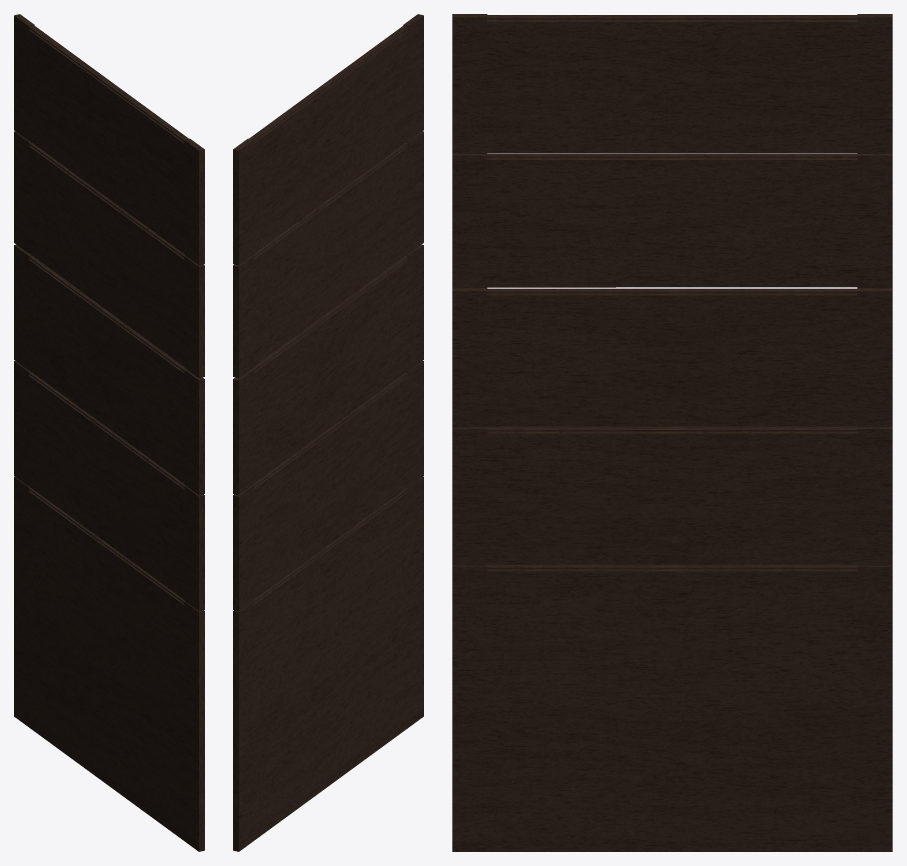
Rendered from mid_wall_panel.glb.
The picture shows the model from 3 angles, left to right: view 1: azimuth 30°, elevation 25°; view 2: azimuth 150°, elevation 25°; view 3: azimuth 270°, elevation 25°; orthographic projection. The views are drawn at different scales.
Visible parts, largest first — view 1: Middle Wall Panel; view 2: Middle Wall Panel; view 3: Middle Wall Panel.
Boxes of the visible parts, x1,y1,x2,y2 form: Middle Wall Panel: (14,14,204,851); Middle Wall Panel: (233,14,423,851); Middle Wall Panel: (452,14,892,851).
Bounding box in the file's own units: 0.0214 × 2.46 × 1.18.
Materials: 1 (1 with a texture image).
